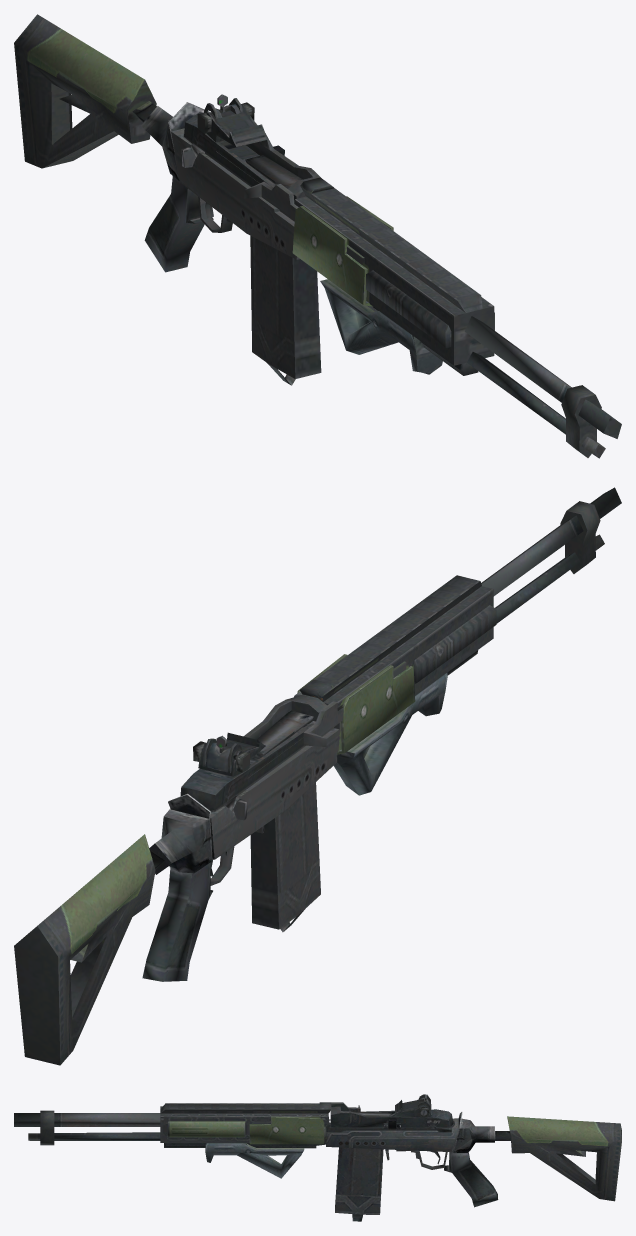
Rendered from Assault_Rifle_bq_qs_01_lod1_Body_LOD_(000334).glb.
3 renders of one model, top to bottom at view 1: azimuth 30°, elevation 25°; view 2: azimuth 150°, elevation 25°; view 3: azimuth 270°, elevation 25°, orthographic. The views are drawn at different scales.
Visible parts, largest first — view 1: bq_qs_01_lod1; view 2: bq_qs_01_lod1; view 3: bq_qs_01_lod1.
Part boxes in pixels (x1=…): bq_qs_01_lod1: x1=14, y1=14, x2=621, y2=458; bq_qs_01_lod1: x1=14, y1=487, x2=621, y2=1065; bq_qs_01_lod1: x1=14, y1=1094, x2=621, y2=1221.
Size of the model in its own units: 0.0934 by 0.308 by 1.34.
1 material, 1 textured.
